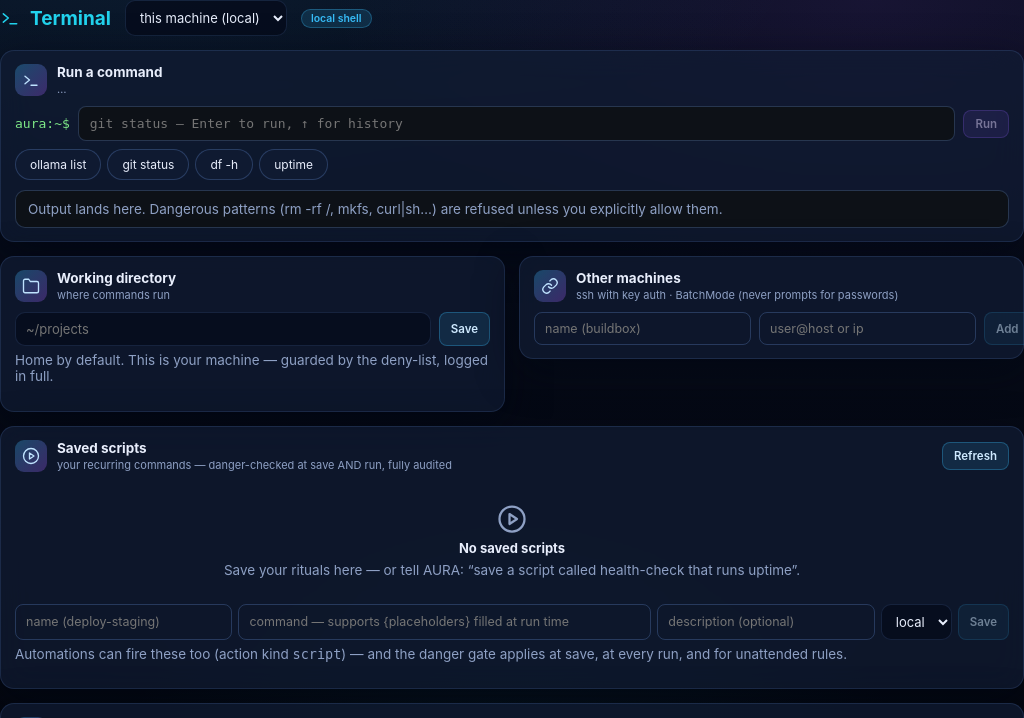
Test: Terminal › runs a command and shows output + audit trail
In the field named "terminal command": (517, 124) [78,106,955,141], type "git status"
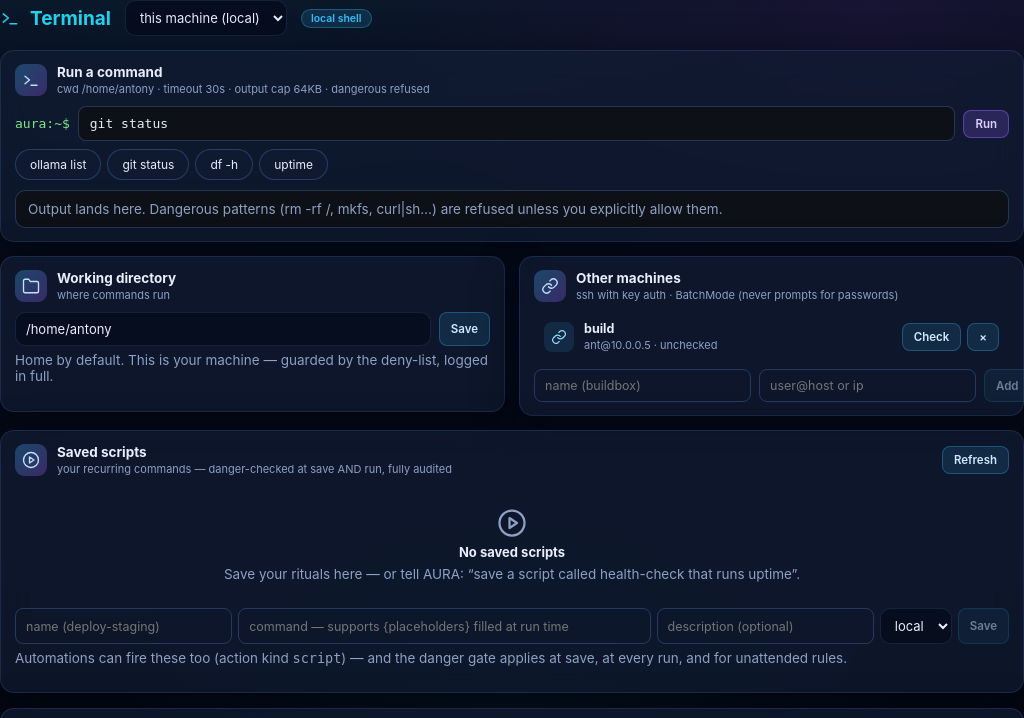
Press Enter in the field named "terminal command", box [78,106,955,141]
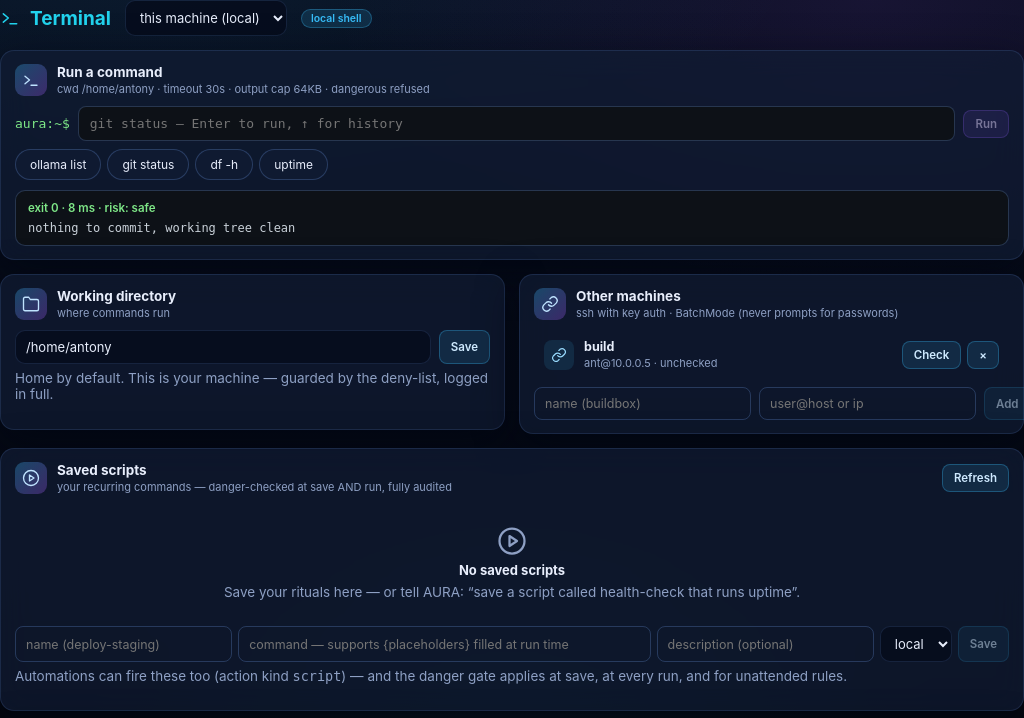
Check: the button "git status" is shown, box [108,149,190,180]
Check: the text "nothing to commit, working tree clean" is shown, box [28,221,295,235]
Check: the text with test id "term-meta" shows "exit 0", box [28,201,156,215]
